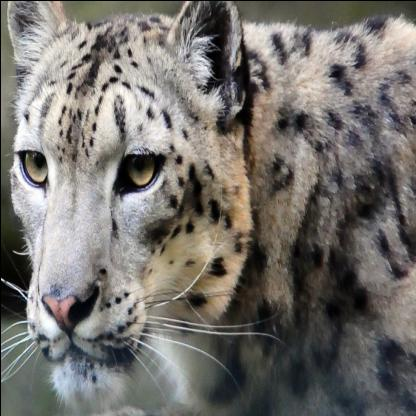leopard: (0, 1, 251, 399)
